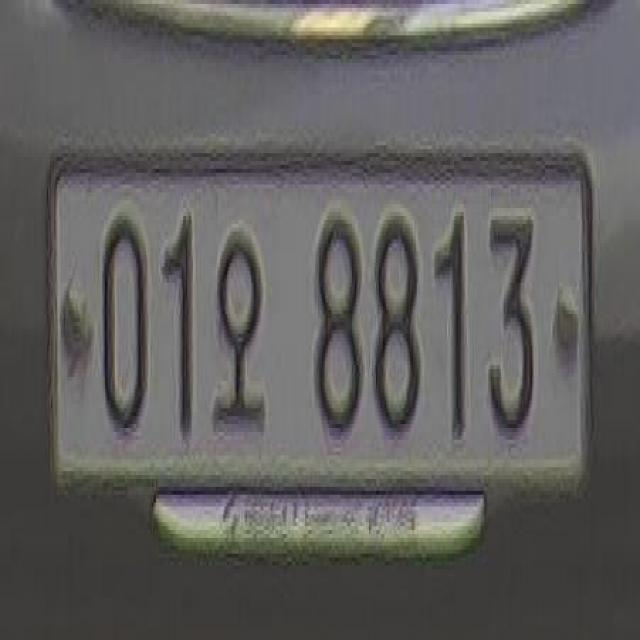illegal_plate: (47, 142, 599, 572)
